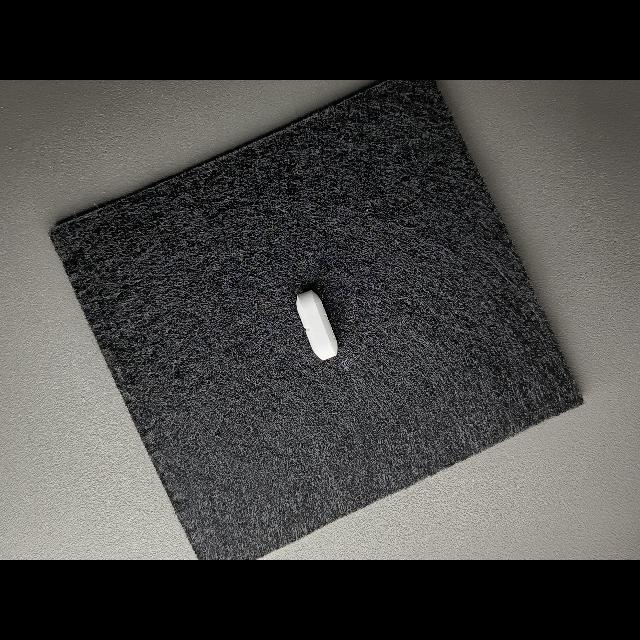Intact Pill: (296, 290, 338, 361)
